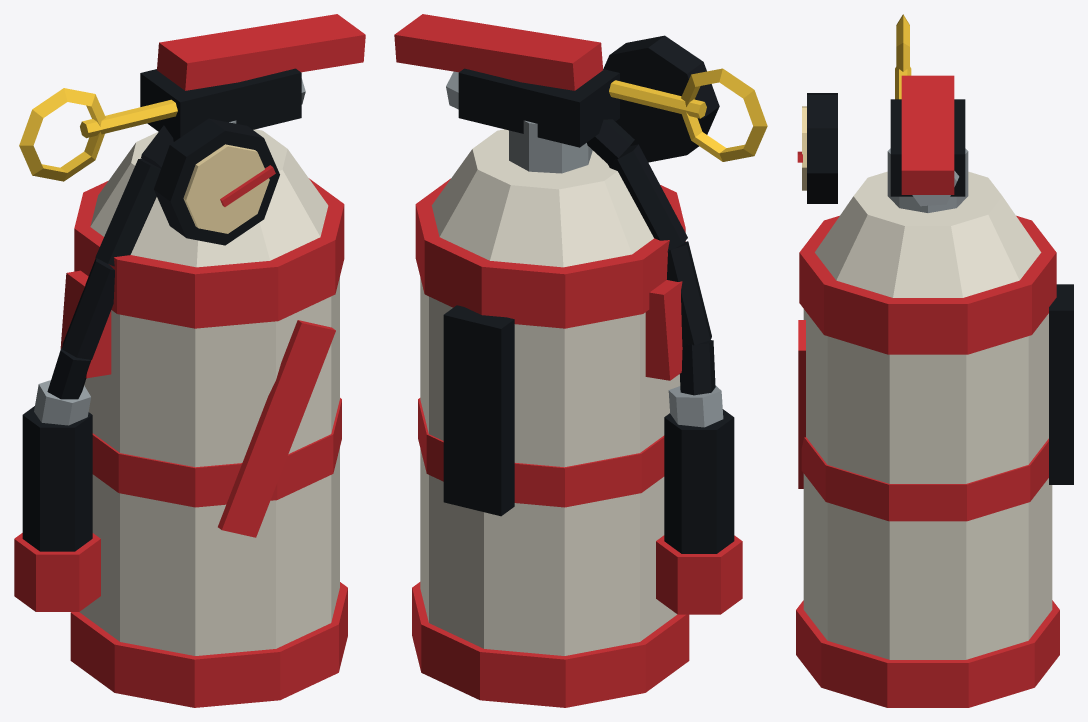
File: expired-extinguisher-v1-C7czyM-O.glb
3 views of the same model, side by side, from view 1: azimuth 30°, elevation 25°; view 2: azimuth 150°, elevation 25°; view 3: azimuth 270°, elevation 25° (orthographic). The views are drawn at different scales.
Parts seen in each view (by area): view 1: EEV1_CylinderShell, EEV1_TopBand, EEV1_BottomBoot, EEV1_Shoulder, EEV1_TopLever, EEV1_NozzleBody, EEV1_ExpiryStripe, EEV1_MidBand, EEV1_ValveBlock, EEV1_GaugeHousing, EEV1_NozzleTip, EEV1_GaugeFace (+9 smaller); view 2: EEV1_CylinderShell, EEV1_Shoulder, EEV1_TopBand, EEV1_BottomBoot, EEV1_HarnessBracket, EEV1_TopLever, EEV1_NozzleBody, EEV1_ValveBlock, EEV1_GaugeHousing, EEV1_MidBand, EEV1_NozzleTip, EEV1_NozzleGrip (+8 smaller); view 3: EEV1_CylinderShell, EEV1_Shoulder, EEV1_TopBand, EEV1_BottomBoot, EEV1_MidBand, EEV1_TopLever, EEV1_HarnessBracket, EEV1_GaugeHousing, EEV1_ValveBlock, EEV1_ExpiryStripe, EEV1_ValveNeck, EEV1_SafetyPinLoop.
Boxes of the visible parts, <box> form: EEV1_CylinderShell: <box>79,277,339,655</box>; EEV1_TopBand: <box>74,178,344,328</box>; EEV1_BottomBoot: <box>70,582,347,707</box>; EEV1_Shoulder: <box>90,129,328,267</box>; EEV1_TopLever: <box>157,14,365,90</box>; EEV1_NozzleBody: <box>22,406,92,551</box>; EEV1_ExpiryStripe: <box>218,320,335,537</box>; EEV1_MidBand: <box>92,398,341,507</box>; EEV1_ValveBlock: <box>140,68,301,141</box>; EEV1_GaugeHousing: <box>154,118,279,245</box>; EEV1_NozzleTip: <box>14,533,100,611</box>; EEV1_GaugeFace: <box>183,144,269,233</box>; EEV1_CylinderShell: <box>420,278,680,655</box>; EEV1_Shoulder: <box>431,129,653,267</box>; EEV1_TopBand: <box>415,178,685,328</box>; EEV1_BottomBoot: <box>412,582,689,707</box>; EEV1_HarnessBracket: <box>443,305,514,516</box>; EEV1_TopLever: <box>394,14,602,90</box>; EEV1_NozzleBody: <box>664,409,734,553</box>; EEV1_ValveBlock: <box>458,68,619,147</box>; EEV1_GaugeHousing: <box>603,35,719,162</box>; EEV1_MidBand: <box>418,398,664,507</box>; EEV1_NozzleTip: <box>656,535,742,614</box>; EEV1_NozzleGrip: <box>645,280,682,380</box>; EEV1_CylinderShell: <box>803,309,1052,659</box>; EEV1_Shoulder: <box>815,171,1041,297</box>; EEV1_TopBand: <box>799,215,1056,354</box>; EEV1_BottomBoot: <box>796,600,1059,707</box>; EEV1_MidBand: <box>801,437,1048,521</box>; EEV1_TopLever: <box>901,75,954,194</box>; EEV1_HarnessBracket: <box>1049,284,1073,484</box>; EEV1_GaugeHousing: <box>807,93,837,203</box>; EEV1_ValveBlock: <box>890,99,965,196</box>; EEV1_ExpiryStripe: <box>798,320,805,488</box>; EEV1_ValveNeck: <box>887,148,968,212</box>; EEV1_SafetyPinLoop: <box>896,14,909,71</box>.
Size of the model in its own units: 1.2 by 2.01 by 0.895.
